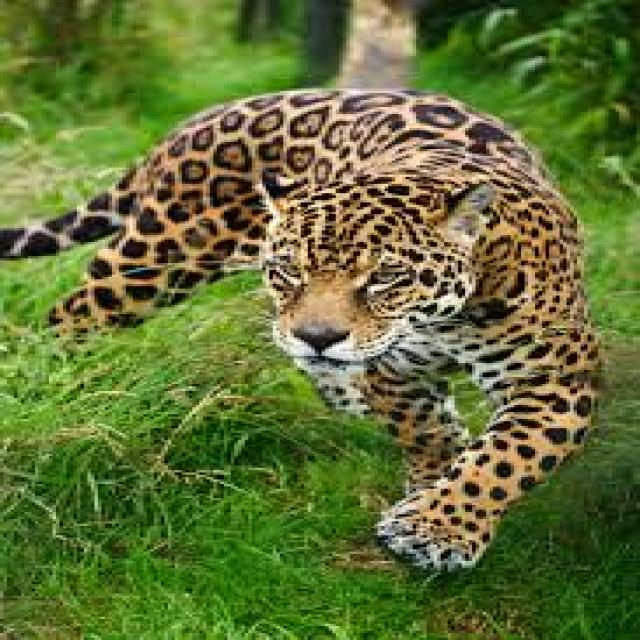Jaguar: (0, 86, 609, 580)
